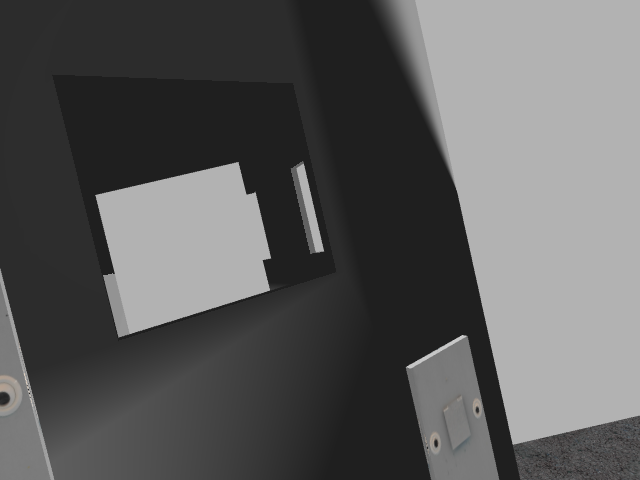facade: (428, 393, 483, 454)
